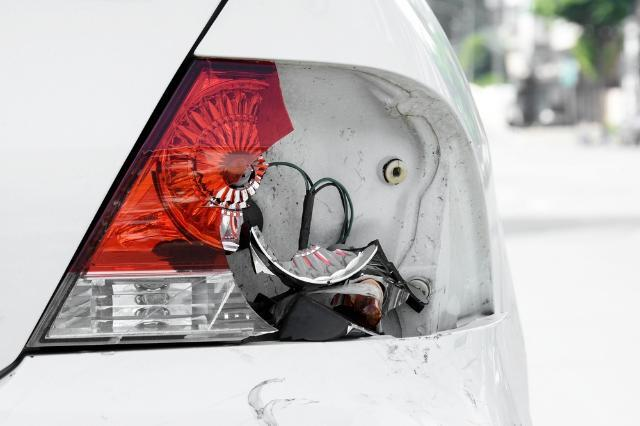lamp broken: (30, 59, 491, 350)
scratch: (242, 376, 323, 426)
